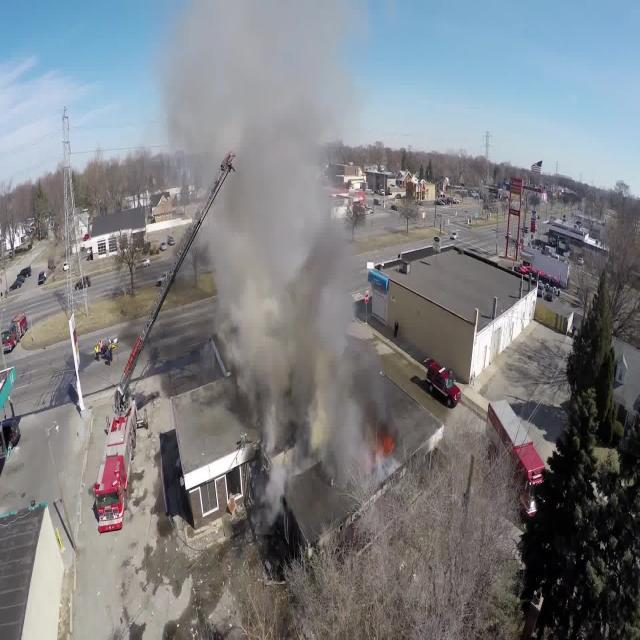Fire: (377, 420, 399, 462)
Smoke: (176, 6, 394, 471)
